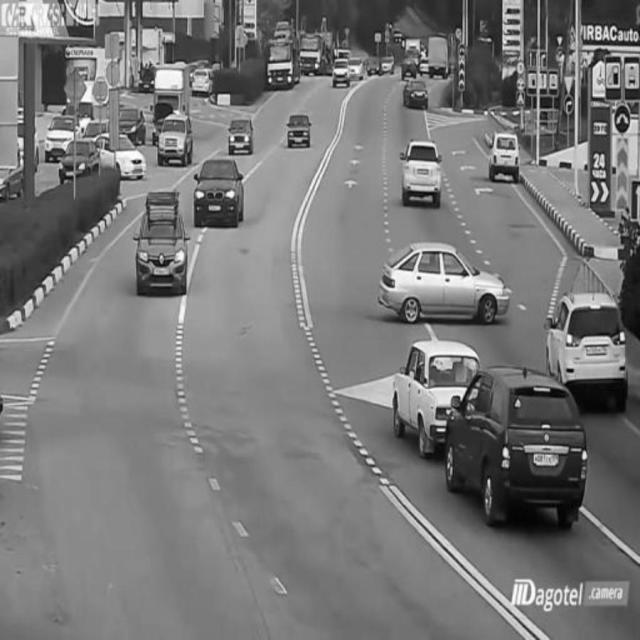vehicle: (459, 366, 593, 528), (373, 237, 511, 325), (544, 294, 640, 404), (385, 337, 477, 448), (133, 196, 194, 296), (190, 157, 248, 228), (398, 139, 445, 205), (97, 124, 148, 179), (156, 103, 192, 167), (265, 33, 305, 85), (489, 131, 525, 188), (55, 131, 93, 183), (41, 109, 82, 157), (285, 106, 315, 157), (225, 112, 255, 157), (397, 72, 432, 109), (330, 52, 357, 92), (189, 61, 216, 97)
